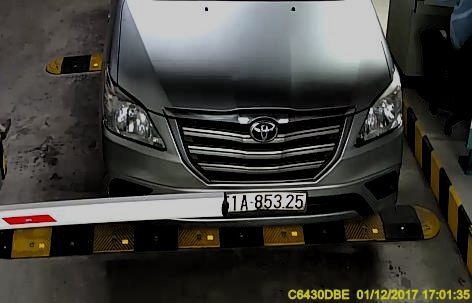plate: (212, 187, 308, 216)
